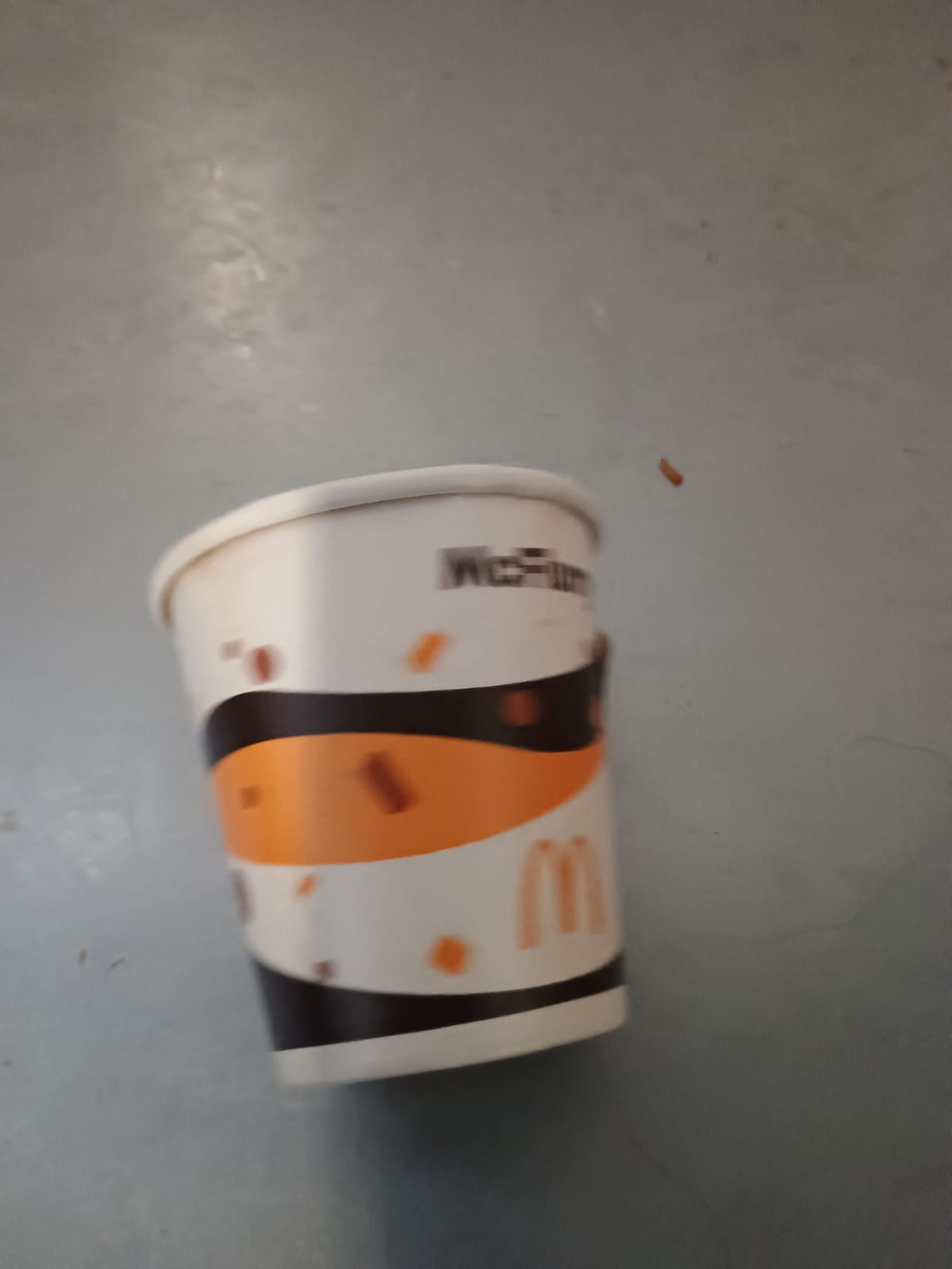Carton: (143, 464, 630, 1085)
